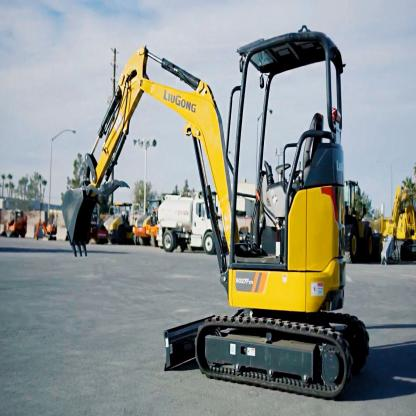excavator: (68, 26, 371, 392)
